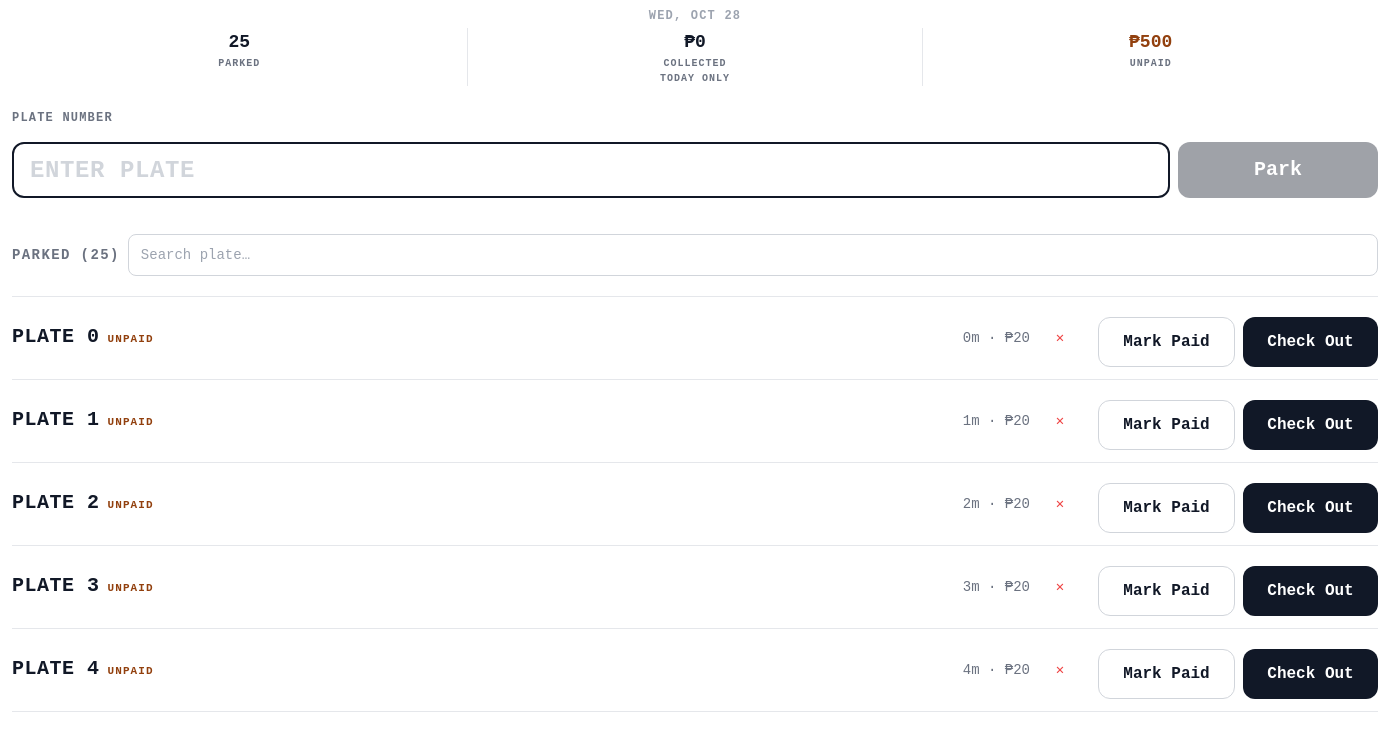
Operations scroll shortcuts › two-tap remove deletes unpaid parked entry
Expected: the button "PLATE 0" is shown, [12,323,100,351]
Click the button named "Remove PLATE 0" at (1060, 338), box [1038,316,1082,360]
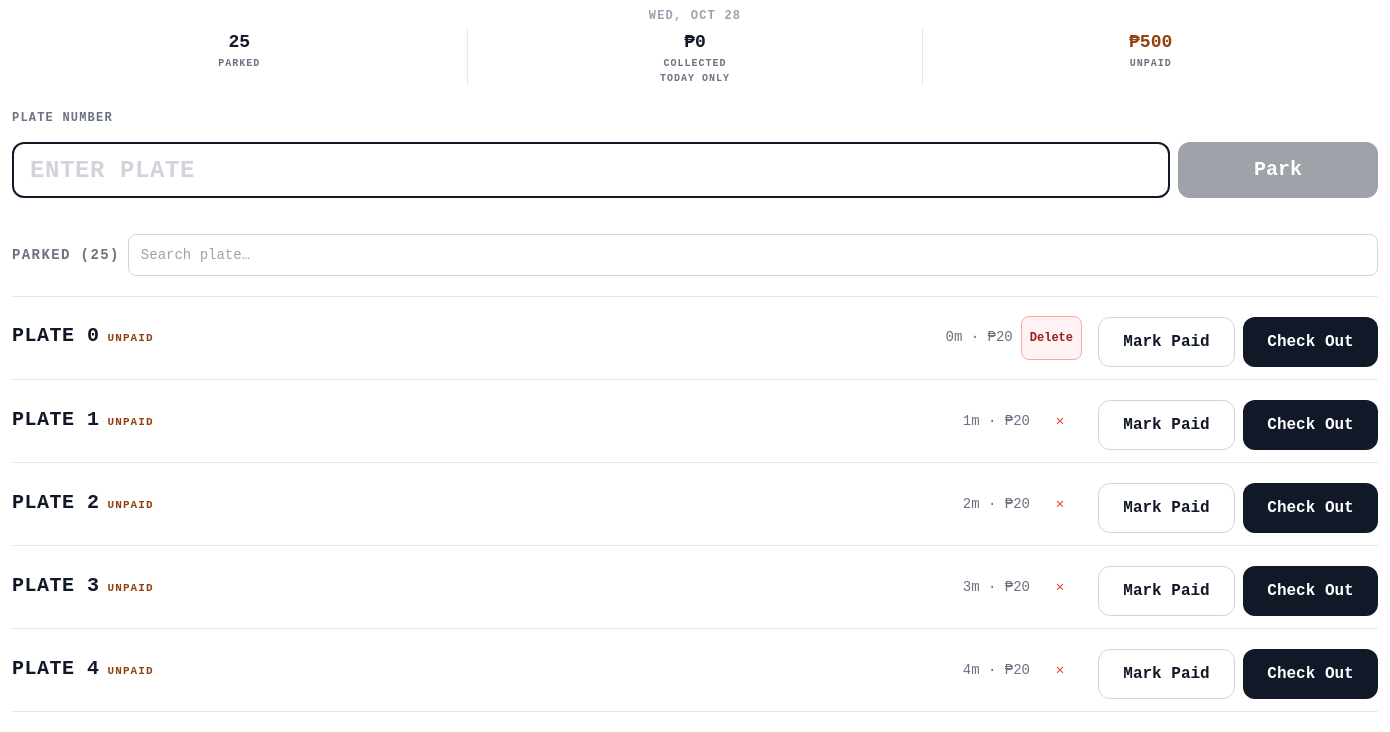
Expected: the button "Delete" is shown
Click the button "Delete" at (1051, 338), box [1021,316,1082,360]
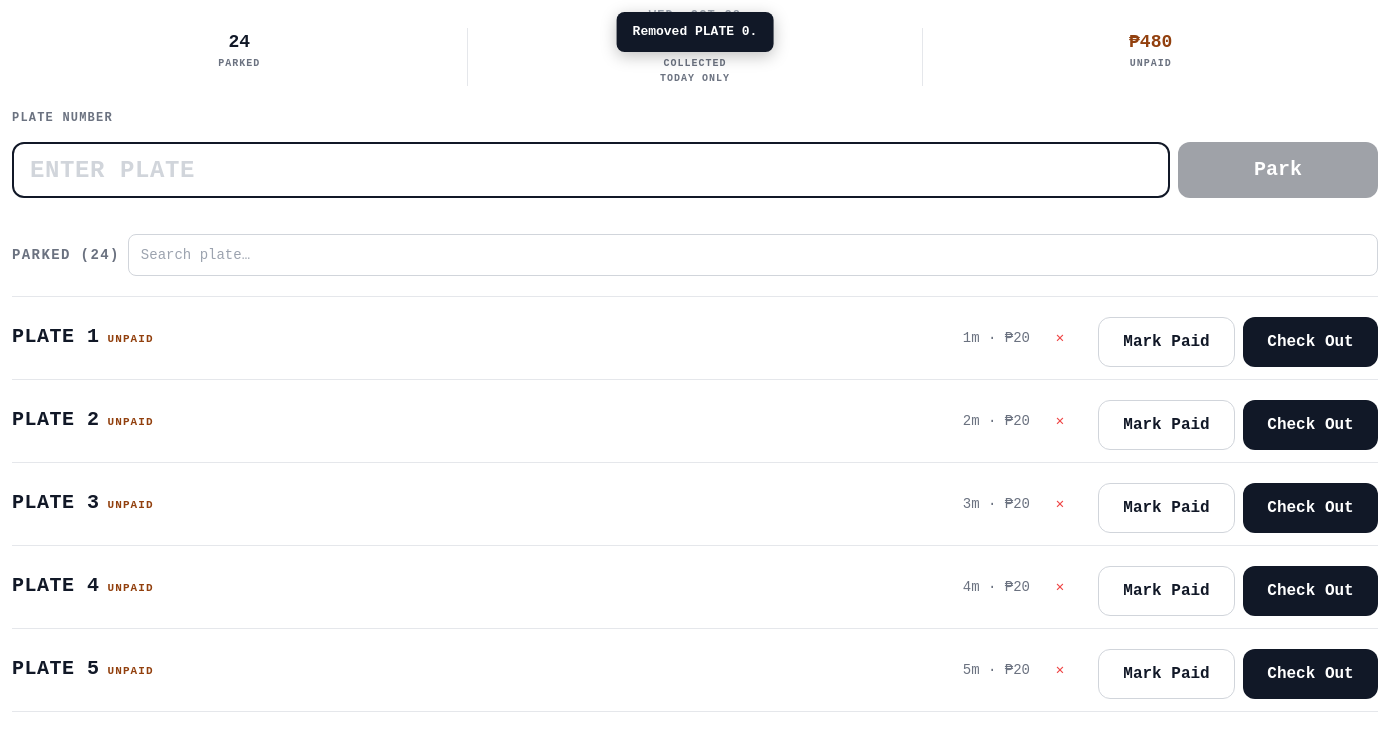
Expected: the text "Removed PLATE 0." is shown, [617,12,773,52]
